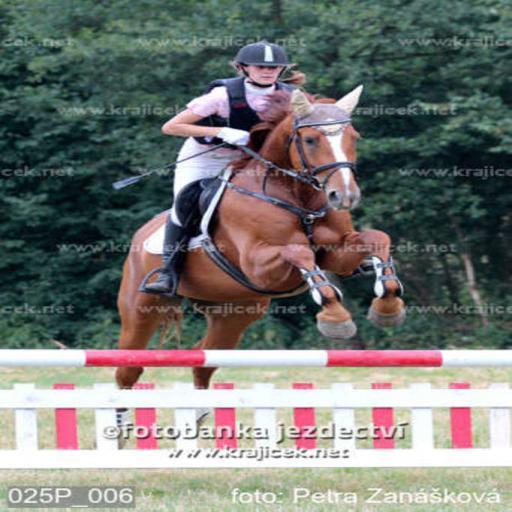horse: (109, 84, 409, 413)
